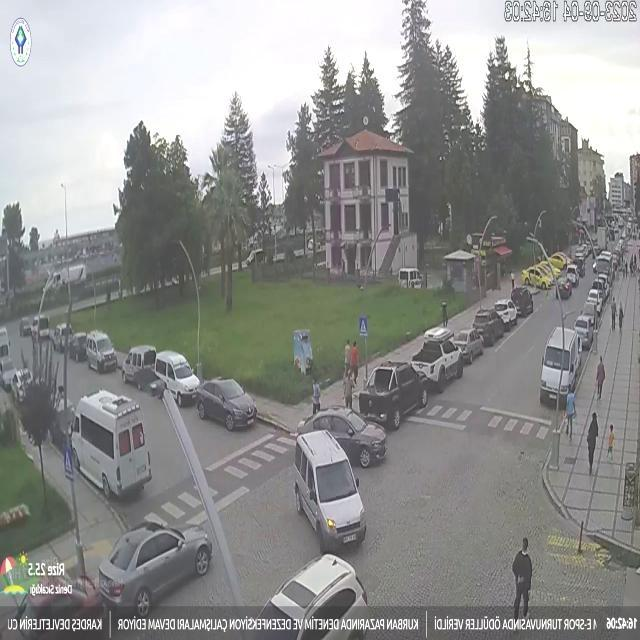Car: (100, 518, 212, 612), (282, 434, 369, 550), (264, 553, 369, 640), (20, 572, 106, 640), (358, 359, 434, 432), (299, 412, 392, 465), (195, 378, 258, 430), (411, 337, 462, 391), (154, 350, 201, 406), (122, 344, 158, 384), (471, 309, 505, 346), (450, 328, 484, 362), (0, 358, 27, 395), (519, 264, 555, 289), (492, 294, 518, 328), (510, 286, 534, 317), (574, 315, 596, 348), (53, 322, 76, 353), (68, 332, 90, 362), (550, 280, 574, 301), (584, 290, 606, 310)
Van: (68, 391, 153, 499), (540, 327, 582, 404), (85, 330, 117, 372), (397, 264, 427, 290)
